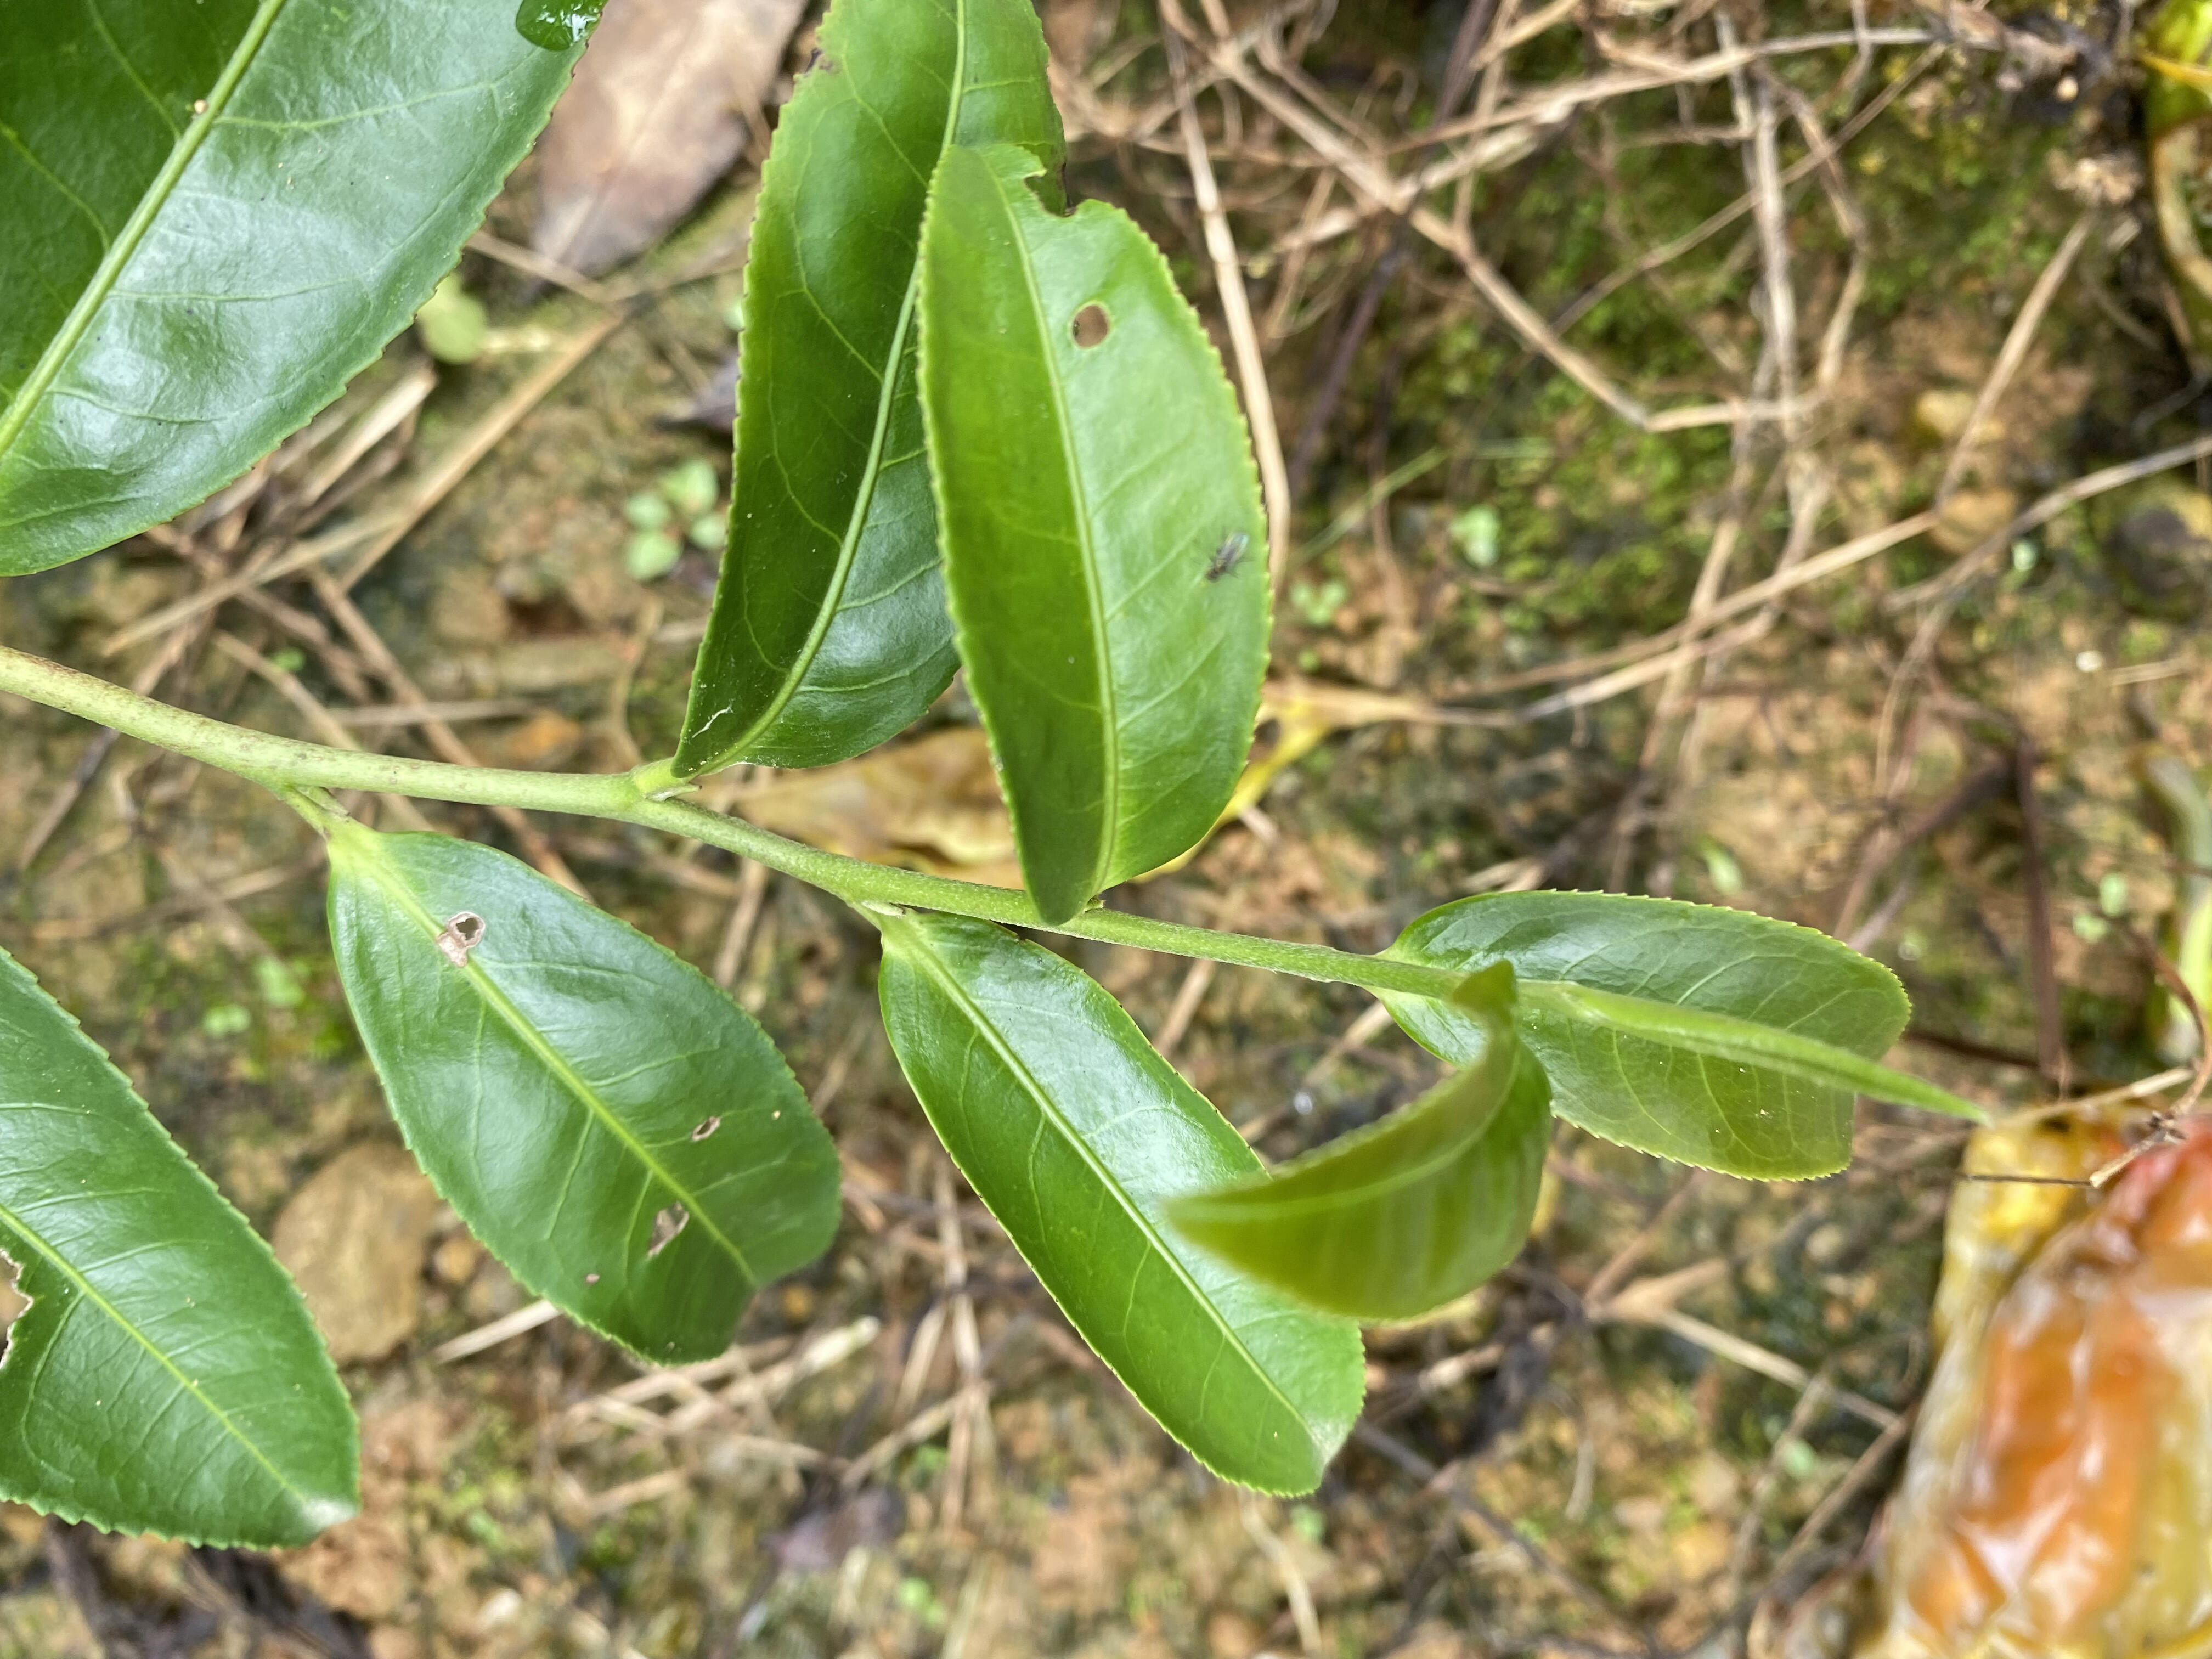chihuo_high: (914, 139, 1273, 918)
chihuo_low: (2, 948, 364, 1553)
healthy: (880, 908, 1369, 1504), (1376, 890, 1918, 1182), (1165, 958, 1555, 1323)
tanju_low: (674, 3, 1064, 779), (327, 828, 843, 1368)
